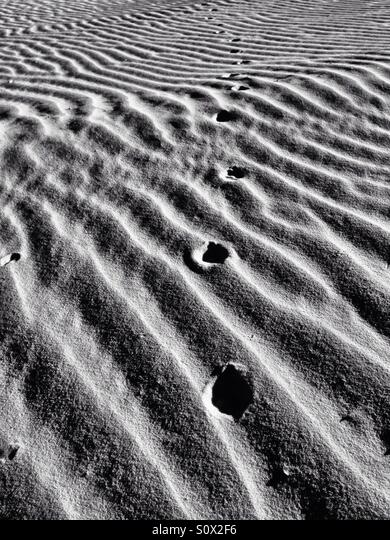fox: (209, 357, 253, 420), (199, 239, 232, 269)
